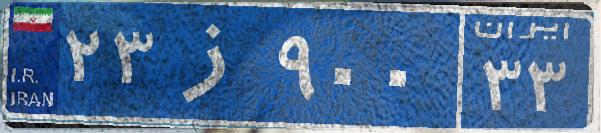0: (385, 28, 445, 110), (330, 28, 385, 110)
2: (57, 26, 110, 107)
3: (475, 38, 525, 113), (110, 28, 158, 105), (525, 38, 570, 115)
9: (273, 28, 330, 110)
ز: (158, 15, 273, 115)
